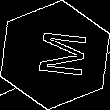M_W: (25, 29, 85, 81)
